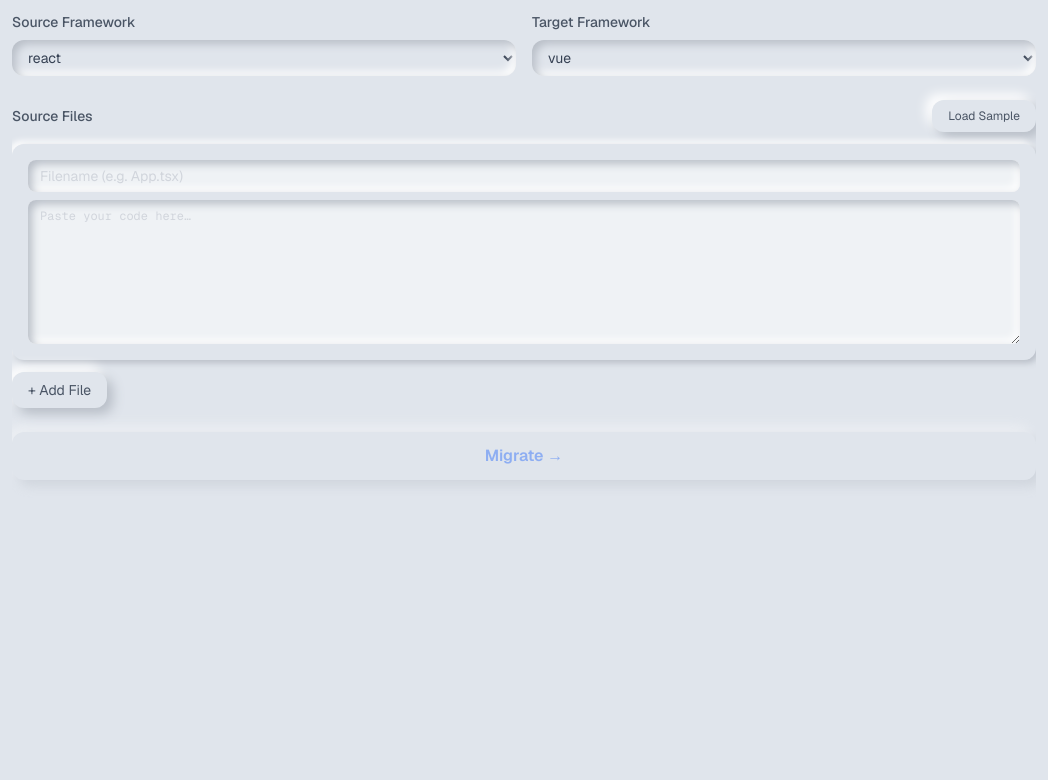
Test: MigrationForm › adds a new file row when "Add file" is clicked
This screenshot has width=1048, height=780.
Step 1. Click the button "+ Add File" → click(60, 390), box [12,372,107,408]
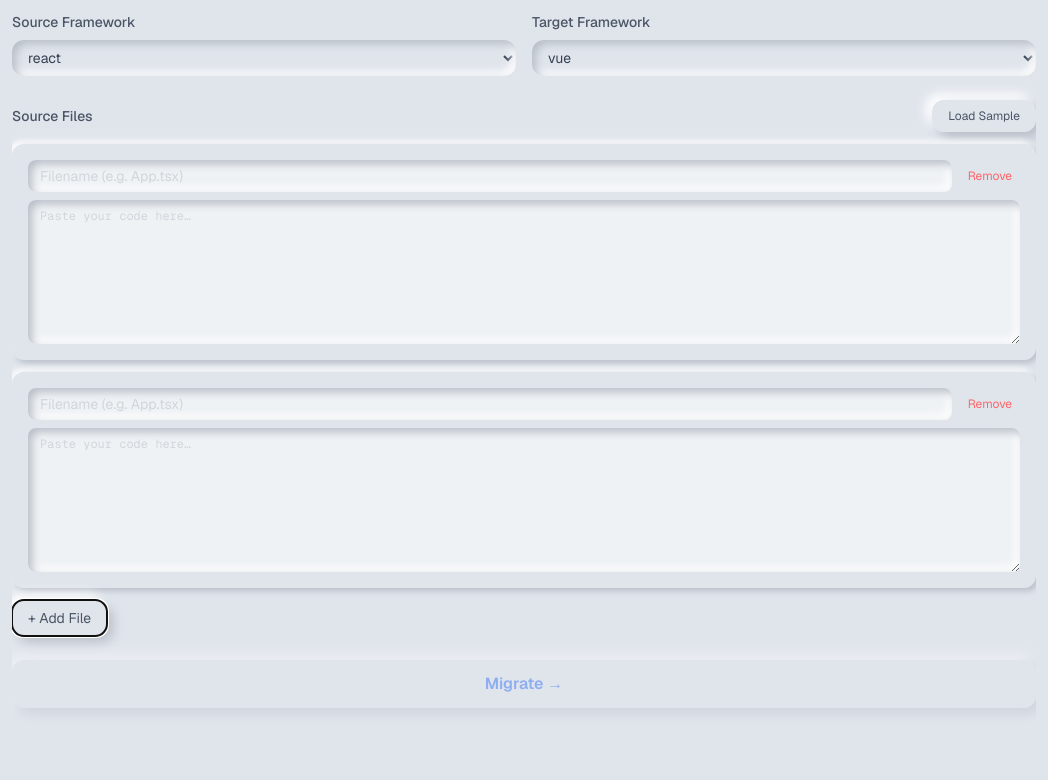
Expected: the number of fields with placeholder "Filename (e.g. App.tsx)" is 2, [28,160,952,192]; [28,388,952,420]
